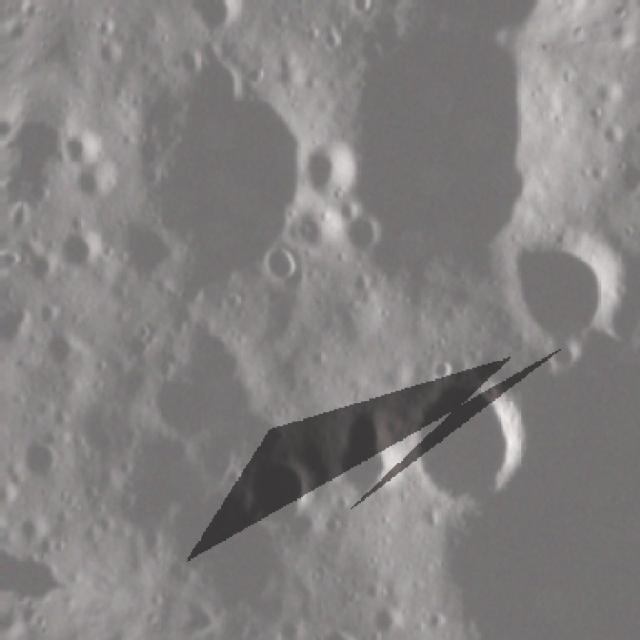crater: (492, 232, 640, 362), (397, 372, 538, 508), (233, 447, 321, 539), (324, 406, 408, 499), (298, 134, 368, 197), (51, 219, 106, 270), (259, 239, 298, 293), (338, 211, 382, 255), (16, 437, 55, 483)
